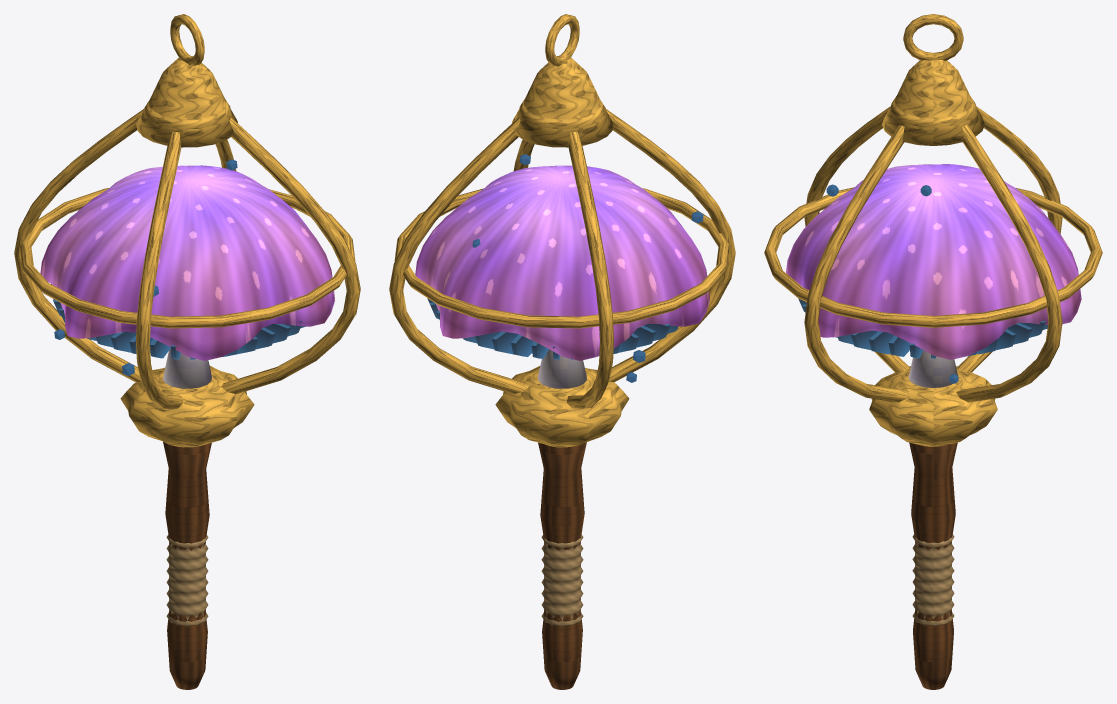
The model's file is mooncap_lantern.glb.
3 renders of one model, left to right at view 1: azimuth 30°, elevation 25°; view 2: azimuth 150°, elevation 25°; view 3: azimuth 270°, elevation 25°, orthographic.
Parts seen in each view (by area): view 1: MooncapGlow, RootGrip, BrassBase, BrassRingMid, BrassRib_3, BrassHood, BrassRib_1, BrassRib_2, RootWrap, MooncapGills, MooncapStem, BrassLoop (+1 smaller); view 2: MooncapGlow, RootGrip, BrassBase, BrassRingMid, BrassRib_0, BrassHood, BrassRib_2, BrassRib_1, RootWrap, MooncapGills, MooncapStem, BrassLoop (+1 smaller); view 3: MooncapGlow, RootGrip, BrassRingMid, BrassBase, BrassHood, BrassRib_3, BrassRib_0, RootWrap, MooncapGills, BrassRib_1, BrassRib_2, BrassLoop (+2 smaller).
Part boxes in pixels (x1,y1,x2,y2): MooncapGlow: (40, 165, 335, 360); RootGrip: (163, 441, 211, 689); BrassBase: (120, 366, 254, 447); BrassRingMid: (19, 188, 355, 328); BrassRib_3: (221, 117, 360, 394); BrassHood: (136, 56, 237, 147); BrassRib_1: (14, 109, 143, 382); BrassRib_2: (136, 131, 183, 408); RootWrap: (166, 535, 208, 626); MooncapGills: (51, 159, 305, 375); MooncapStem: (163, 348, 211, 388); BrassLoop: (170, 14, 204, 66); MooncapGlow: (415, 165, 710, 360); RootGrip: (538, 442, 586, 689); BrassBase: (495, 366, 629, 447); BrassRingMid: (394, 188, 730, 328); BrassRib_0: (389, 117, 528, 394); BrassHood: (512, 56, 613, 147); BrassRib_2: (606, 109, 735, 382); BrassRib_1: (566, 131, 613, 408); RootWrap: (541, 535, 583, 626); MooncapGills: (427, 154, 703, 382); MooncapStem: (538, 349, 586, 388); BrassLoop: (545, 14, 579, 66); MooncapGlow: (786, 164, 1081, 359); RootGrip: (909, 442, 957, 689); BrassRingMid: (764, 187, 1102, 327); BrassBase: (869, 366, 997, 446); BrassHood: (882, 60, 984, 145); BrassRib_3: (804, 124, 910, 402); BrassRib_0: (956, 124, 1062, 402); RootWrap: (912, 534, 954, 626); MooncapGills: (798, 184, 1047, 383); BrassRib_1: (956, 107, 1062, 372); BrassRib_2: (804, 107, 910, 372); BrassLoop: (903, 14, 963, 60).
Bounding box in the file's own units: 0.394 × 0.8602 × 0.394.
Materials: 6 (6 with a texture image).
